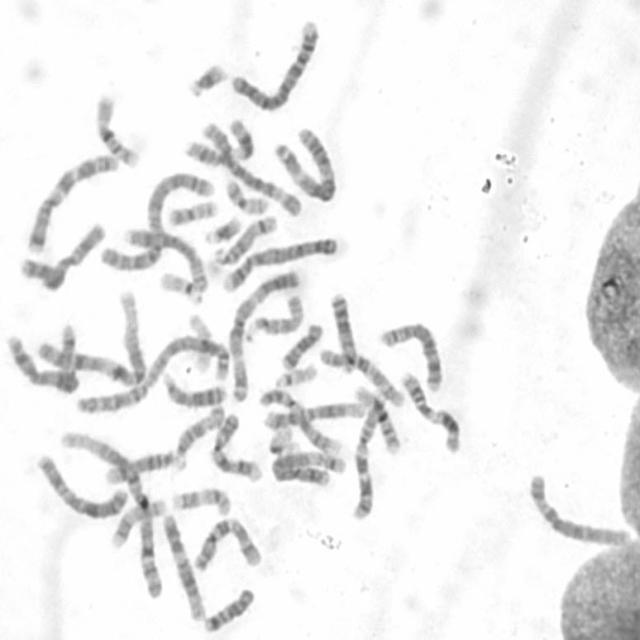A1: (53, 424, 168, 602), (32, 286, 149, 388)
A2: (70, 328, 228, 416), (95, 164, 218, 274)
A3: (223, 262, 304, 403), (269, 120, 340, 204)
B4: (227, 12, 323, 112), (218, 230, 340, 294)
B5: (3, 323, 83, 395), (266, 444, 349, 486)
C10: (314, 339, 408, 408), (188, 511, 266, 573)
C11: (395, 364, 464, 455), (180, 112, 256, 168)
C12: (158, 507, 208, 622), (260, 396, 368, 430)
C6: (198, 115, 304, 217), (523, 466, 635, 550)
C7: (22, 145, 122, 254), (348, 379, 391, 522)
C8: (118, 221, 211, 297), (374, 315, 446, 394)
C9: (255, 382, 345, 457), (205, 405, 266, 483)
D13: (156, 365, 230, 409), (326, 285, 360, 377)
D14: (210, 208, 280, 267), (101, 443, 181, 487)
D15: (168, 397, 227, 470), (242, 287, 307, 342)
E16: (90, 86, 143, 168), (350, 378, 402, 456)
E17: (106, 490, 170, 550), (167, 481, 234, 516)
E18: (199, 582, 257, 634), (276, 315, 326, 372)
F19: (182, 306, 216, 375), (264, 420, 299, 457)
F20: (221, 173, 271, 215), (163, 192, 221, 228)
G21: (182, 55, 231, 99), (200, 208, 244, 246)
G22: (154, 264, 207, 305), (270, 357, 320, 388)
X: (15, 215, 109, 293), (32, 448, 130, 520)
